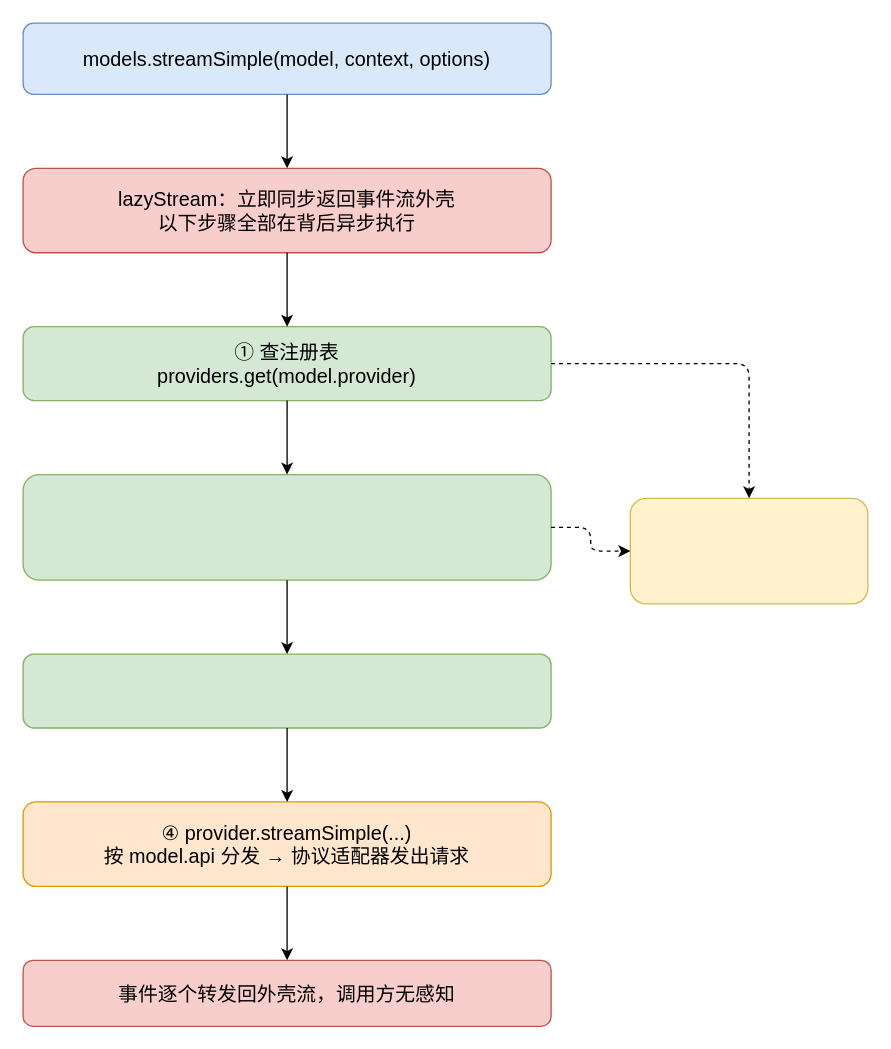
The diagram is 891 pixels wide and 1049 high, and some of its shapes have lost their labels. The shapes that lost their labels are listed below. From the top down, each one's centre as x and y in pixels, then its label:
[286,526]: ② 解析认证 getAuth(model) resolve 链：存储凭证 → 环境变量 → … OAuth 过期则在 modify 锁内刷新
[748,550]: 任一步失败 → 流内 error 事件 （不 throw）
[286,690]: ③ 凭证织入请求 options + apiKey / headers / baseUrl
